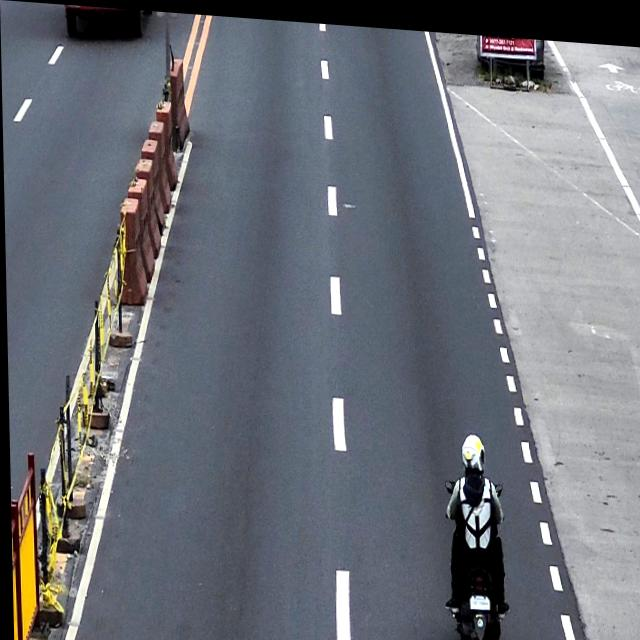Motorcycle: (442, 467, 505, 640), (466, 588, 488, 604)
